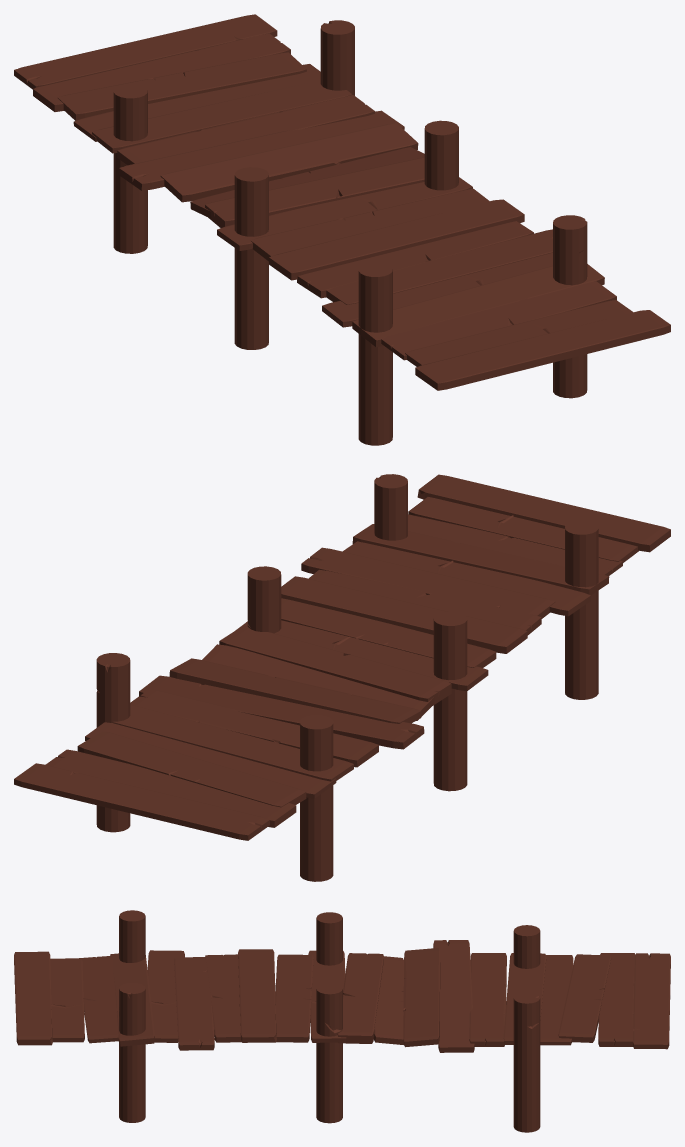
Rendered from WoodenBridge.fbx.
3 views of the same model, one above another, from view 1: azimuth 30°, elevation 25°; view 2: azimuth 150°, elevation 25°; view 3: azimuth 270°, elevation 25° (orthographic). The views are drawn at different scales.
Visible parts, largest first — view 1: Cube.019, Cube.009, Cube.005, Cube.018, Cylinder, Cylinder.002, Cube.016, Cube.011, Cube.014, Cube, Cube.012, Cube.017 (+14 smaller); view 2: Cube.018, Cube.019, Cube.007, Cylinder.002, Cube.005, Cube.016, Cylinder, Cube.009, Cube.002, Cube.010, Cube.012, Cylinder.006 (+14 smaller); view 3: Cylinder.007, Cube.010, Cube.009, Cylinder.003, Cube.018, Cube.019, Cube.005, Cylinder.001, Cube.011, Cube.002, Cube.016, Cube.007 (+14 smaller).
Part boxes in pixels (x1,y1,x2,y2): Cube.019: (415, 310, 670, 390); Cube.009: (160, 123, 418, 202); Cube.005: (269, 199, 524, 280); Cube.018: (14, 14, 277, 89); Cylinder: (358, 262, 392, 445); Cylinder.002: (234, 167, 268, 349); Cube.016: (57, 52, 306, 120); Cube.011: (117, 95, 375, 165); Cube.014: (381, 281, 616, 360); Cube: (352, 264, 604, 347); Cube.012: (92, 80, 352, 153); Cube.017: (33, 33, 290, 111); Cube.018: (14, 763, 269, 840); Cube.019: (417, 474, 670, 552); Cube.007: (219, 625, 451, 705); Cylinder.002: (433, 612, 467, 791); Cube.005: (281, 576, 527, 653); Cube.016: (77, 731, 306, 807); Cylinder: (565, 520, 598, 699); Cube.009: (169, 658, 421, 723); Cube.002: (301, 547, 555, 618); Cube.010: (139, 675, 424, 749); Cube.012: (112, 705, 353, 781); Cylinder.006: (300, 715, 333, 881); Cylinder.007: (513, 992, 540, 1132); Cube.010: (433, 940, 474, 1052); Cube.009: (403, 948, 440, 1047); Cylinder.003: (316, 983, 342, 1123); Cube.018: (633, 953, 670, 1049); Cube.019: (14, 951, 52, 1045); Cube.005: (238, 949, 276, 1042); Cylinder.001: (119, 983, 145, 1122); Cube.011: (469, 953, 506, 1046); Cube.002: (174, 957, 214, 1050); Cube.016: (558, 954, 611, 1042); Cube.007: (337, 953, 383, 1043).
Size of the model in its own units: 340 by 201 by 928.
